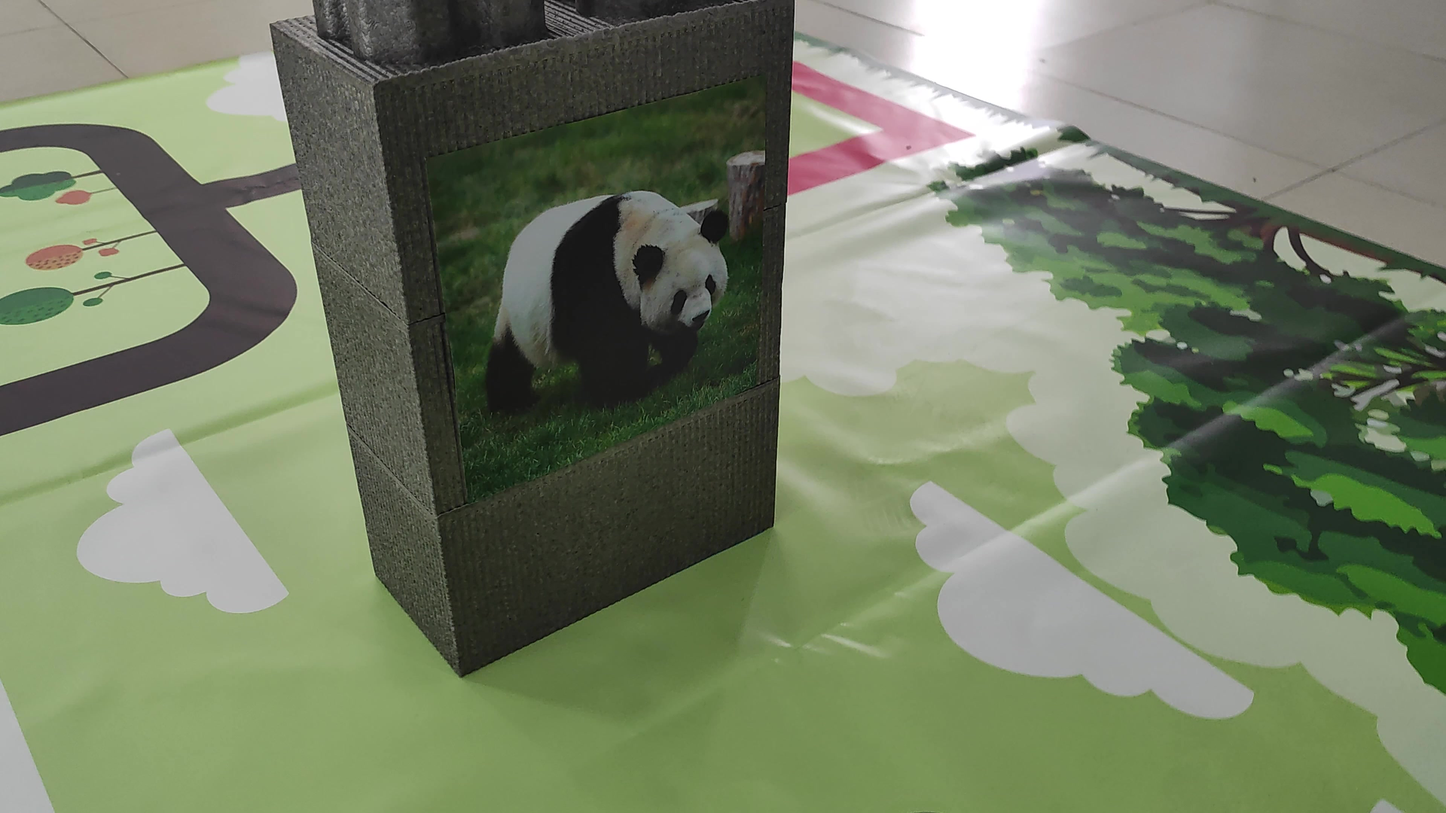panda: (464, 138, 775, 416)
